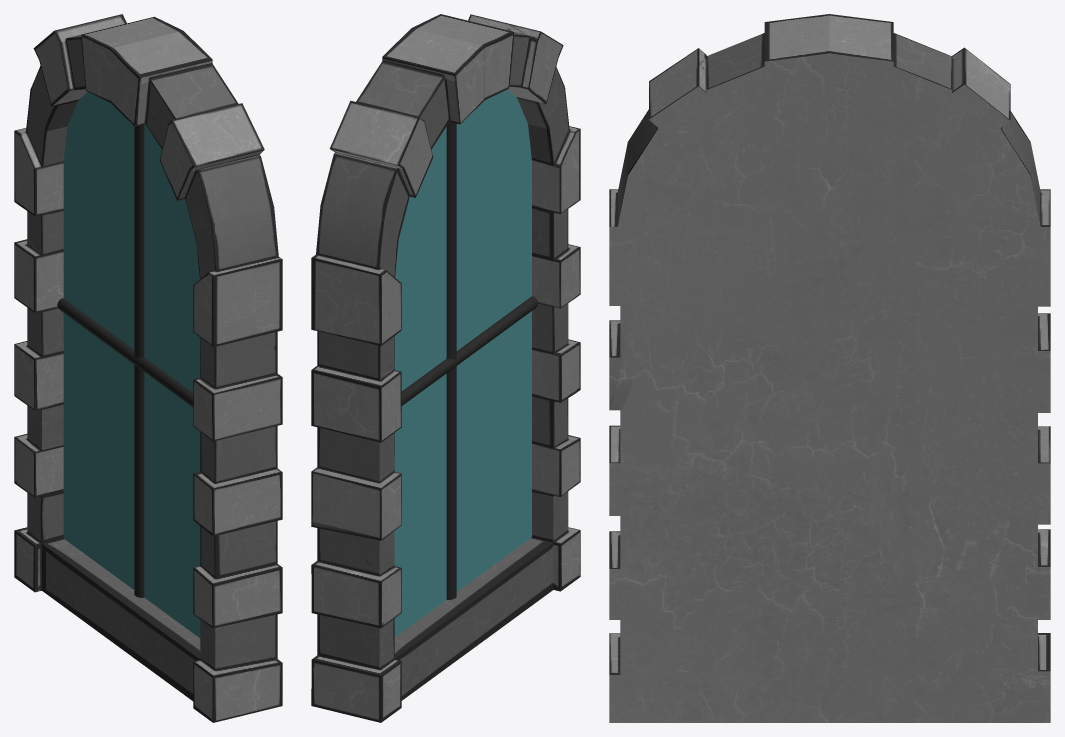
Rendered from window2.obj.
The picture shows the model from 3 angles, left to right: view 1: azimuth 30°, elevation 25°; view 2: azimuth 150°, elevation 25°; view 3: azimuth 270°, elevation 25°; orthographic projection. The views are drawn at different scales.
Parts seen in each view (by area): view 1: polySurface1 pCube39, pCube38FBXASC046001, polySurface3; view 2: polySurface1 pCube39, pCube38FBXASC046001, polySurface3; view 3: polySurface1 pCube39.
Boxes of the visible parts, left/top/right/bottom form: polySurface1 pCube39: left=14, top=14, right=282, bottom=722; pCube38FBXASC046001: left=63, top=92, right=200, bottom=637; polySurface3: left=57, top=124, right=193, bottom=597; polySurface1 pCube39: left=311, top=14, right=580, bottom=722; pCube38FBXASC046001: left=394, top=89, right=531, bottom=637; polySurface3: left=401, top=122, right=537, bottom=599; polySurface1 pCube39: left=609, top=14, right=1050, bottom=722.
Bounding box in the file's own units: 4.02 × 31.66 × 18.93.
